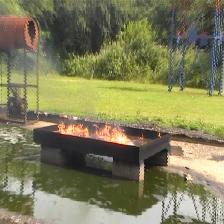fire: (93, 123, 131, 143), (57, 121, 90, 137)
